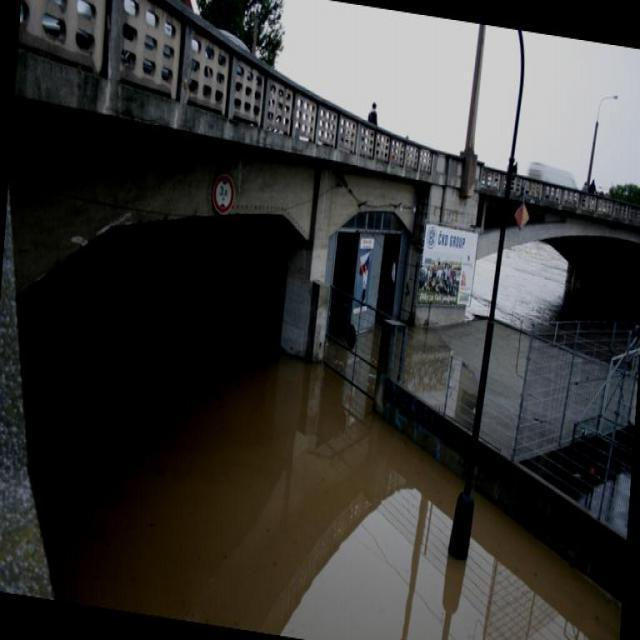flood: (1, 288, 630, 639)
